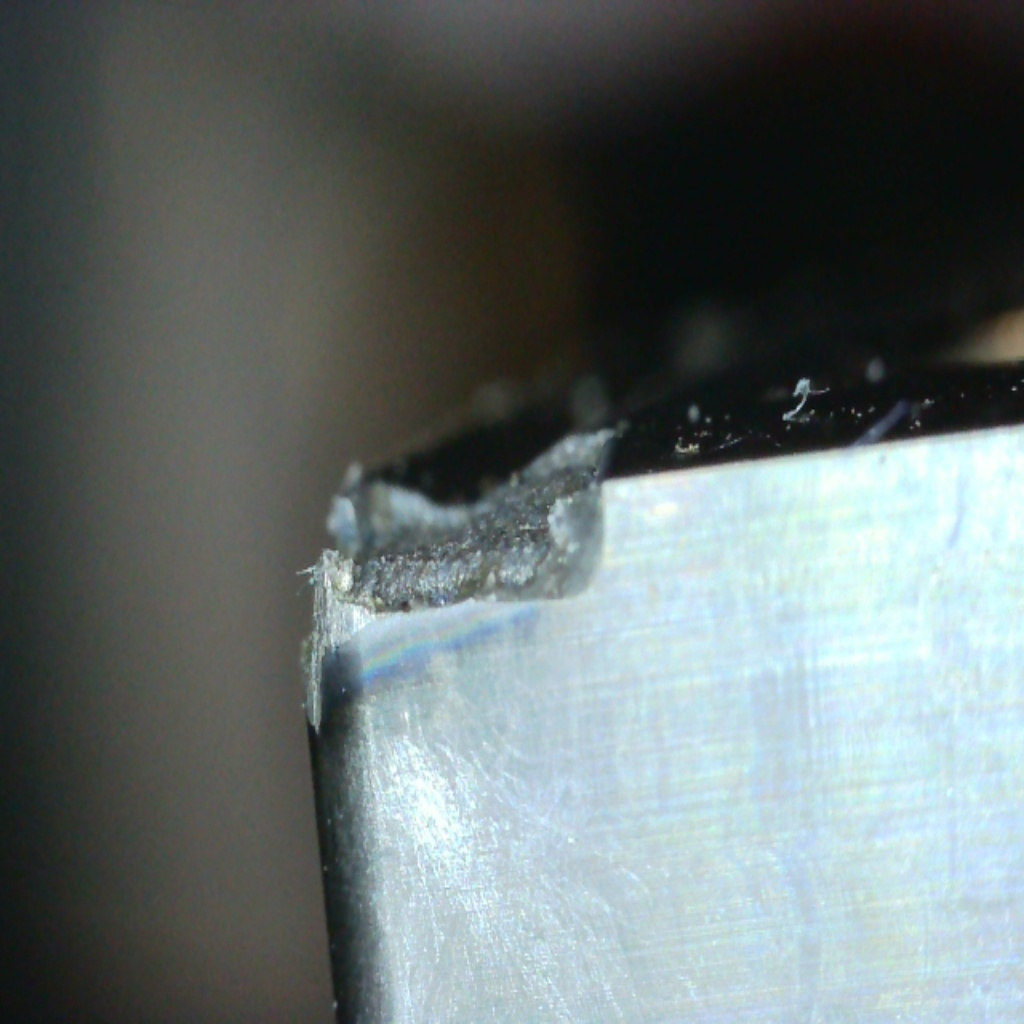flank_wear: (307, 482, 611, 740)
